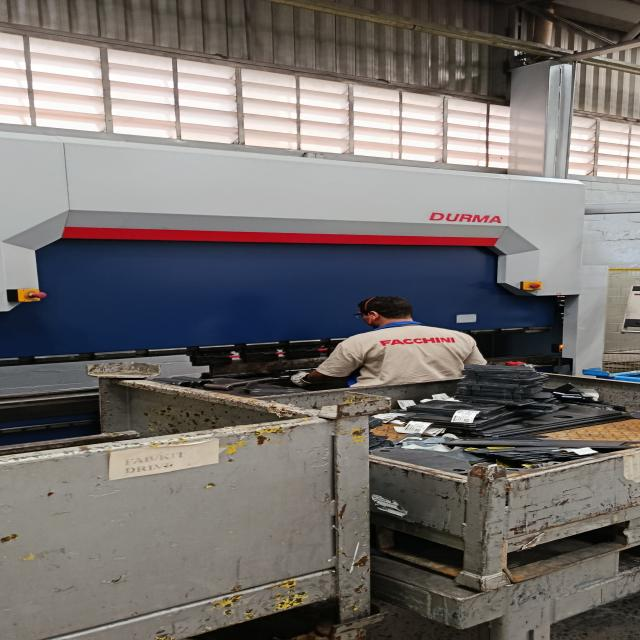oculos-epi: (354, 312, 367, 320)
